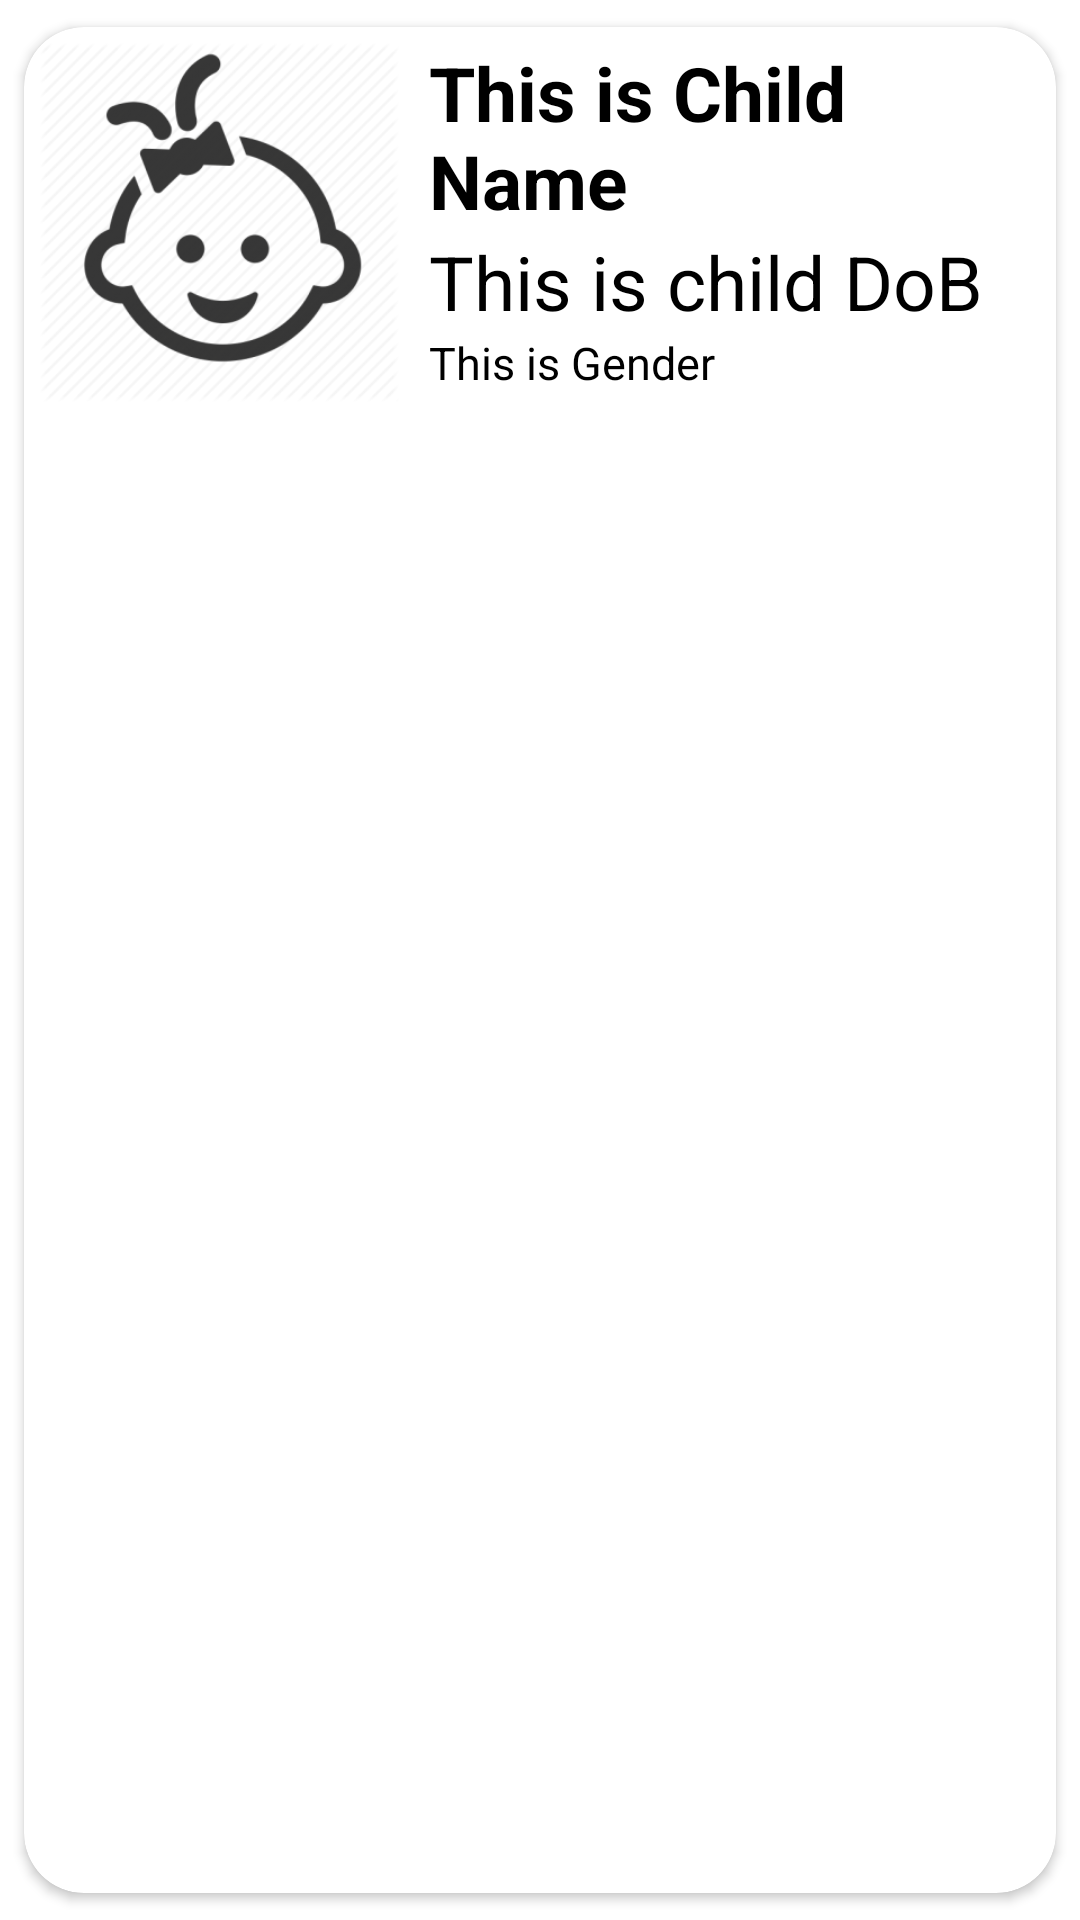

Named icons in this screenshot (1080*1920) and their bounding boxes, [x1,y1,x2,y2]:
newborn: [84,53,362,362]
